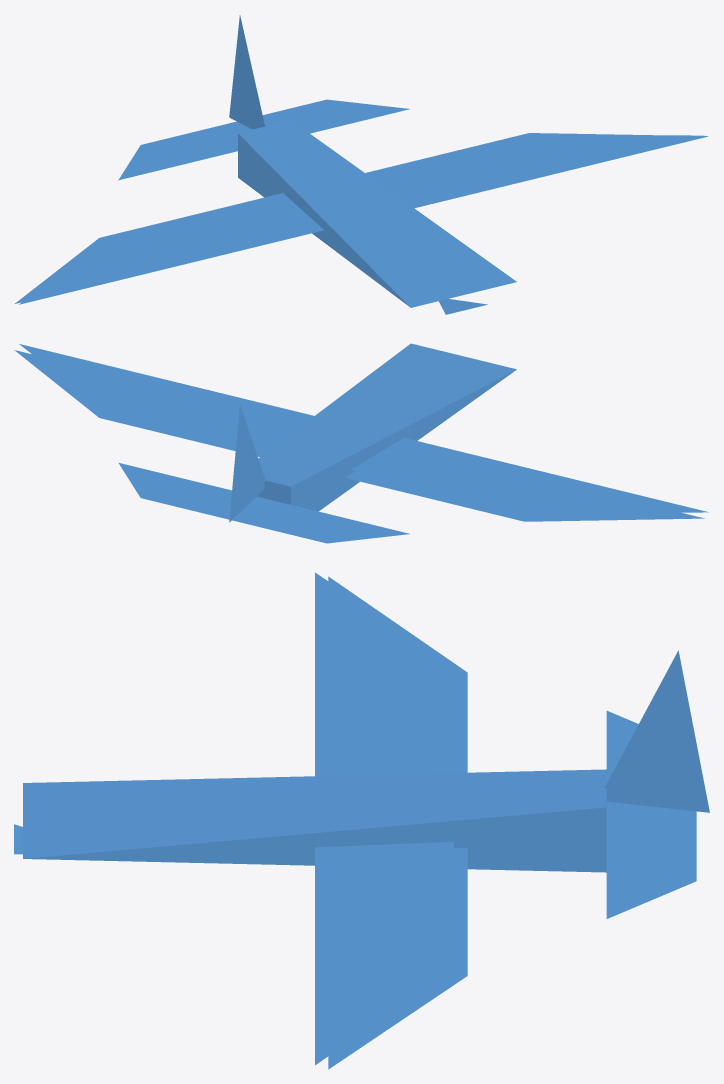
The model's file is generic-fixed-wing.gltf.
The picture shows the model from 3 angles, top to bottom: view 1: azimuth 30°, elevation 25°; view 2: azimuth 150°, elevation 25°; view 3: azimuth 270°, elevation 25°; orthographic projection. The views are drawn at different scales.
Size of the model in its own units: 104 by 20 by 62.
